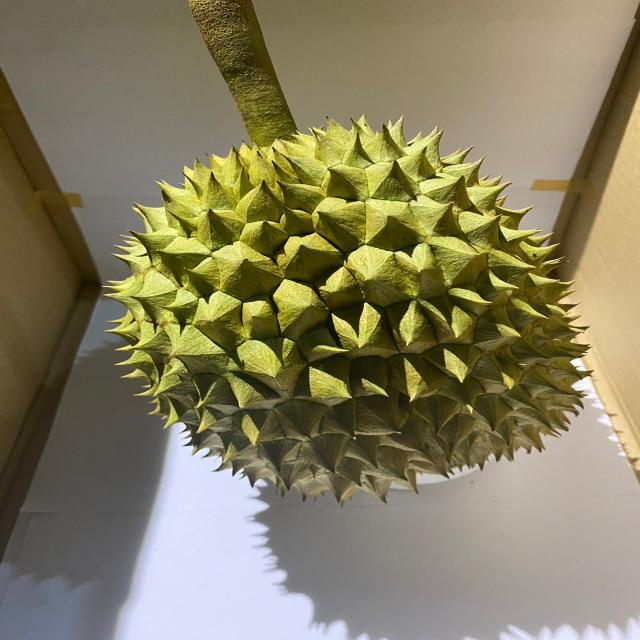immature: (99, 115, 590, 504)
